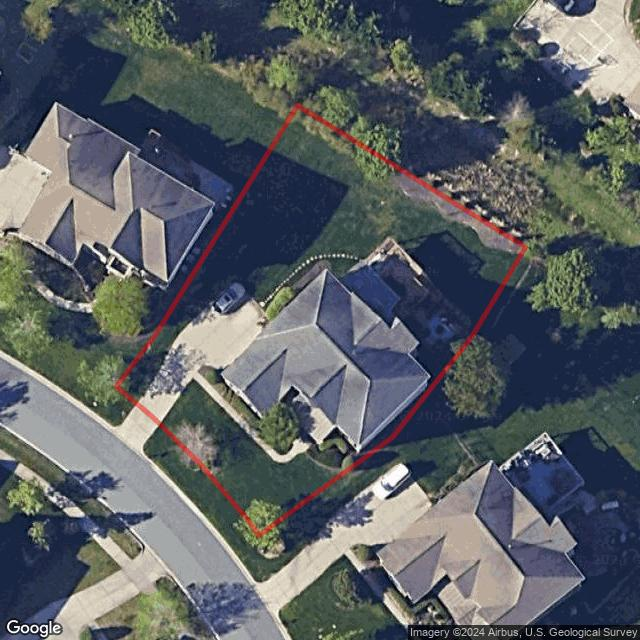Driveway: (137, 277, 272, 425)
Extra-Driveway: (111, 404, 161, 456)
Extra-Lawn: (142, 424, 259, 555), (89, 384, 138, 426)
House: (219, 267, 434, 455)
Lawn: (116, 105, 526, 534)
Other: (340, 236, 472, 377), (394, 167, 525, 256), (197, 364, 300, 455), (303, 429, 365, 468), (292, 261, 331, 294)
Sidewalk: (193, 372, 317, 463)
